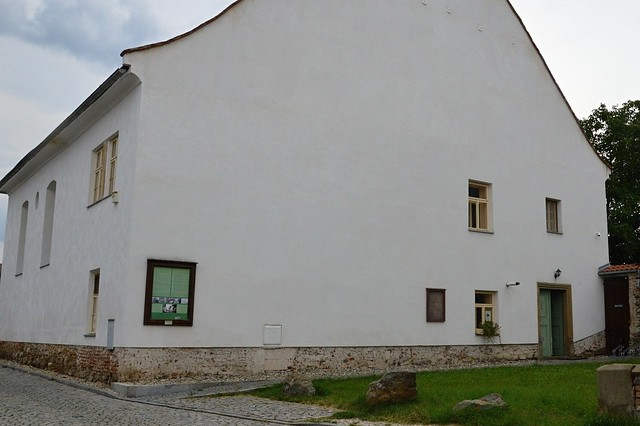high: (1, 6, 615, 399)
